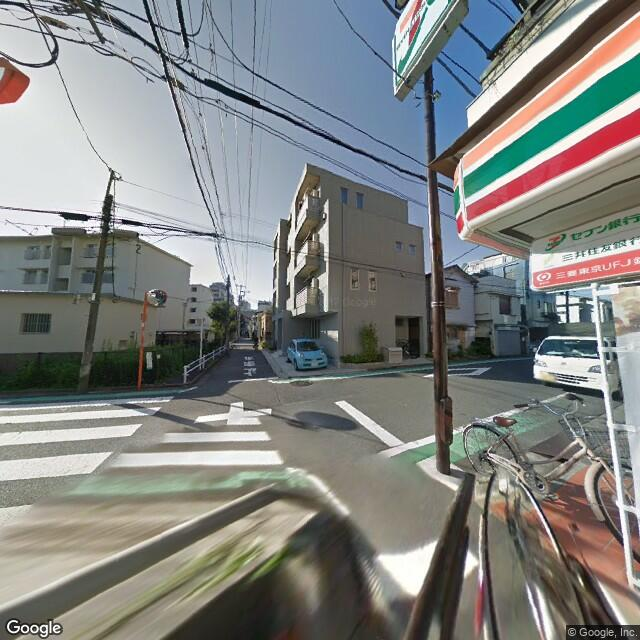7-eleven: (452, 13, 639, 244), (387, 1, 454, 84), (541, 229, 568, 255)
